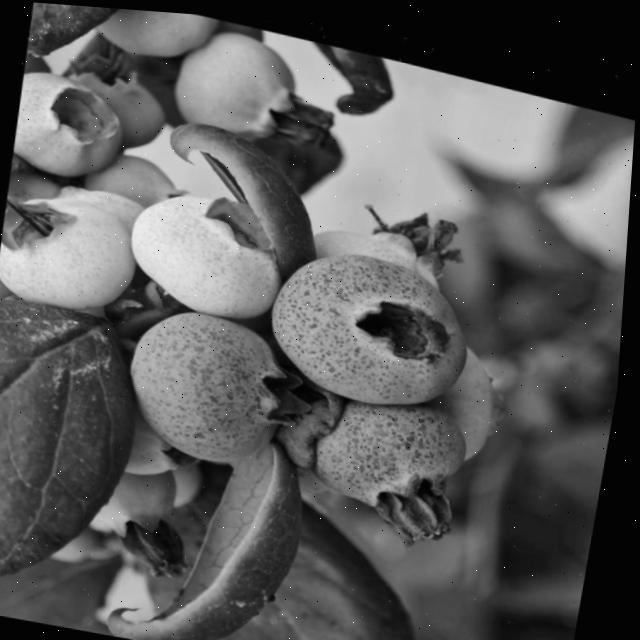RipeBlueBerry: (255, 218, 491, 416), (294, 371, 485, 539)
Semi-RipeBlueBerry: (111, 287, 309, 473)
UnripeBlueBerry: (114, 168, 299, 324), (0, 178, 146, 325), (168, 10, 316, 147), (7, 58, 134, 189), (89, 5, 221, 70)
